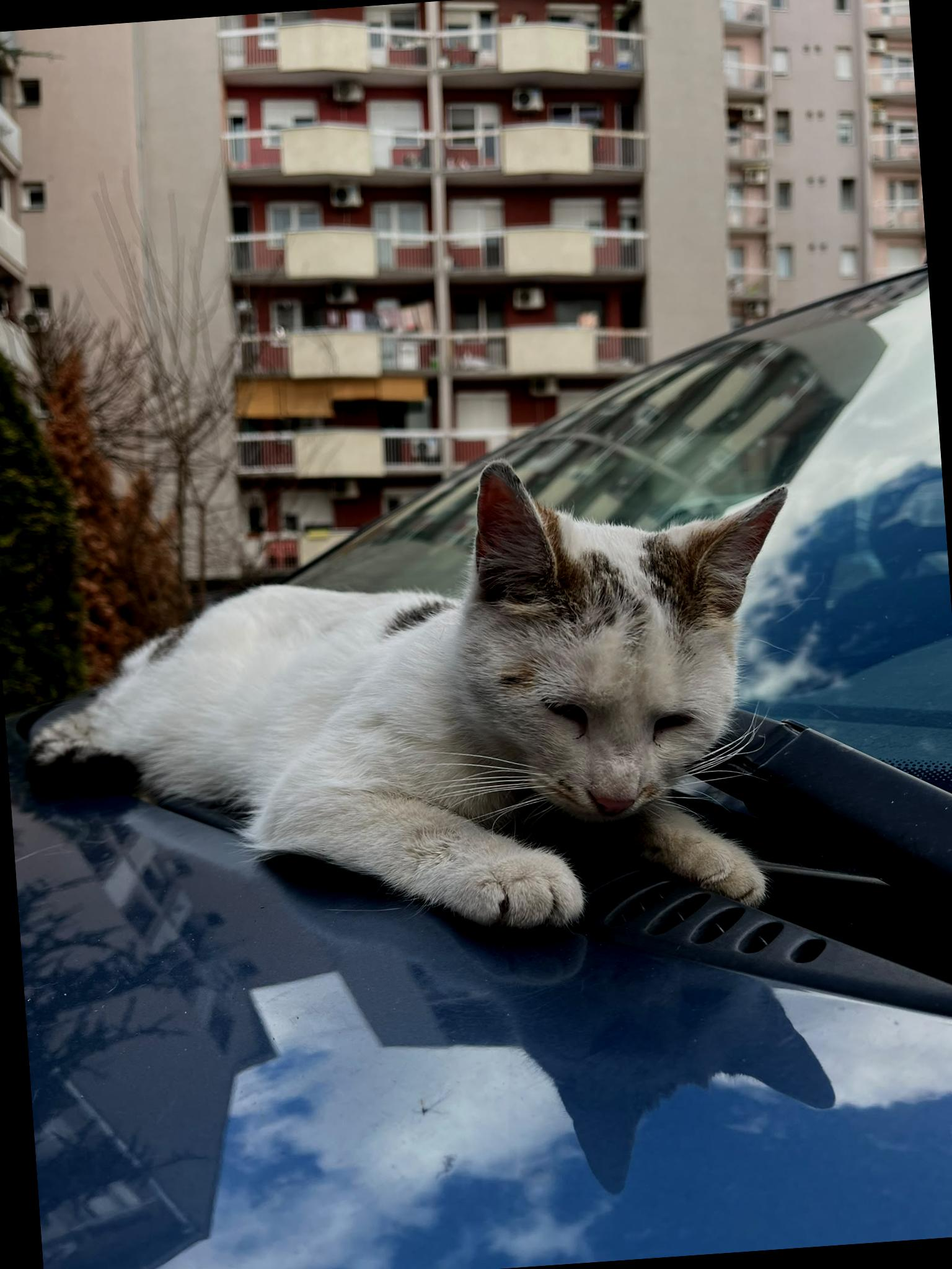macka: (18, 443, 820, 967)
